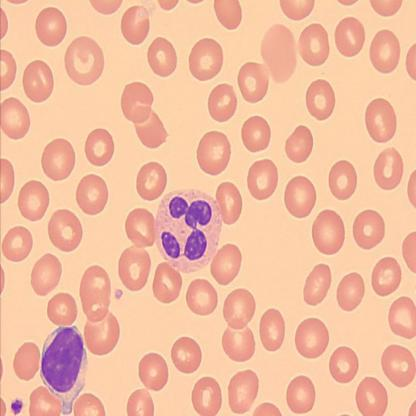Lymphocyte: (36, 324, 88, 414)
